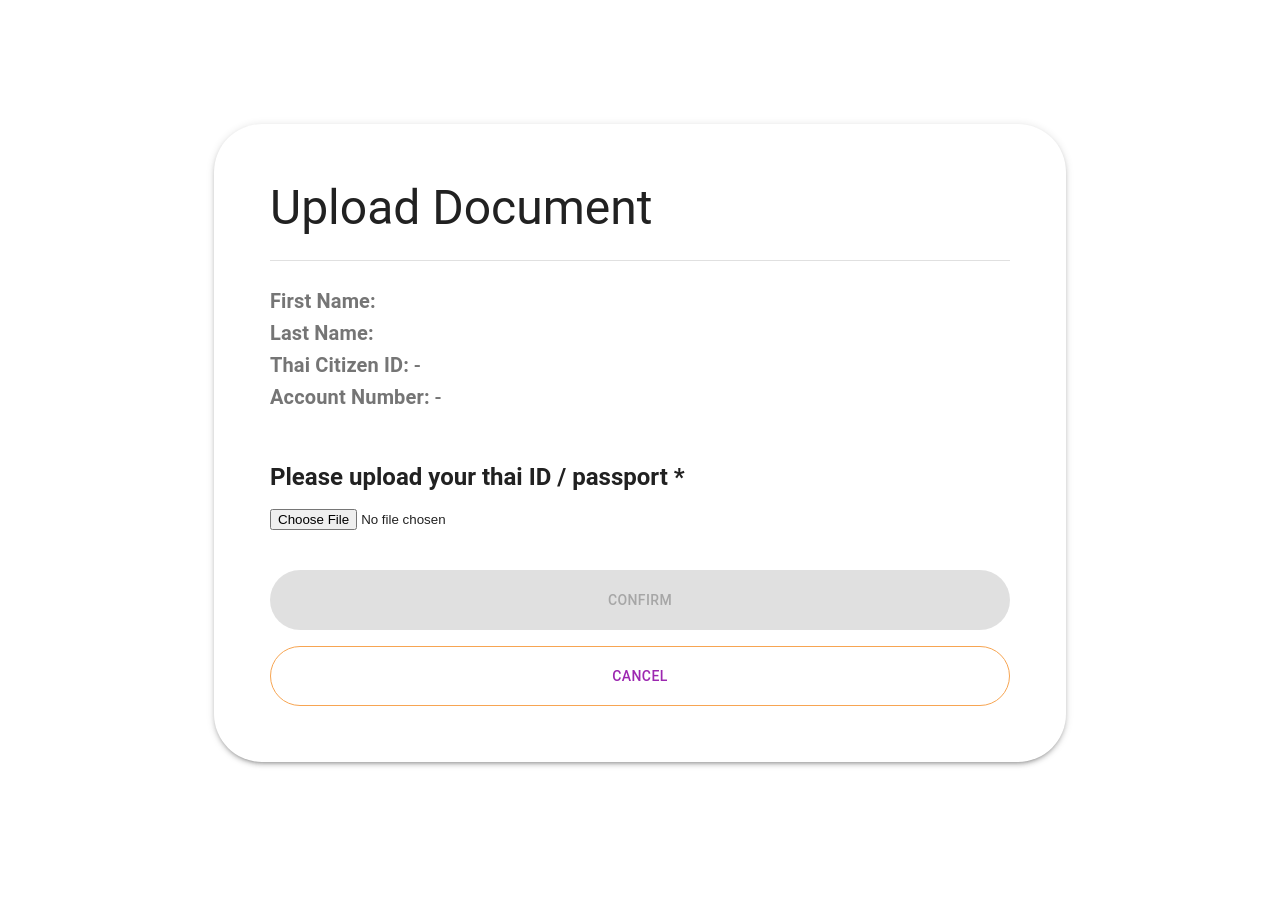
UploadDocuments Page › opens cancel dialog when Cancel is clicked
Step 1. Click the button "Cancel" → (640, 676), box [270, 646, 1010, 706]
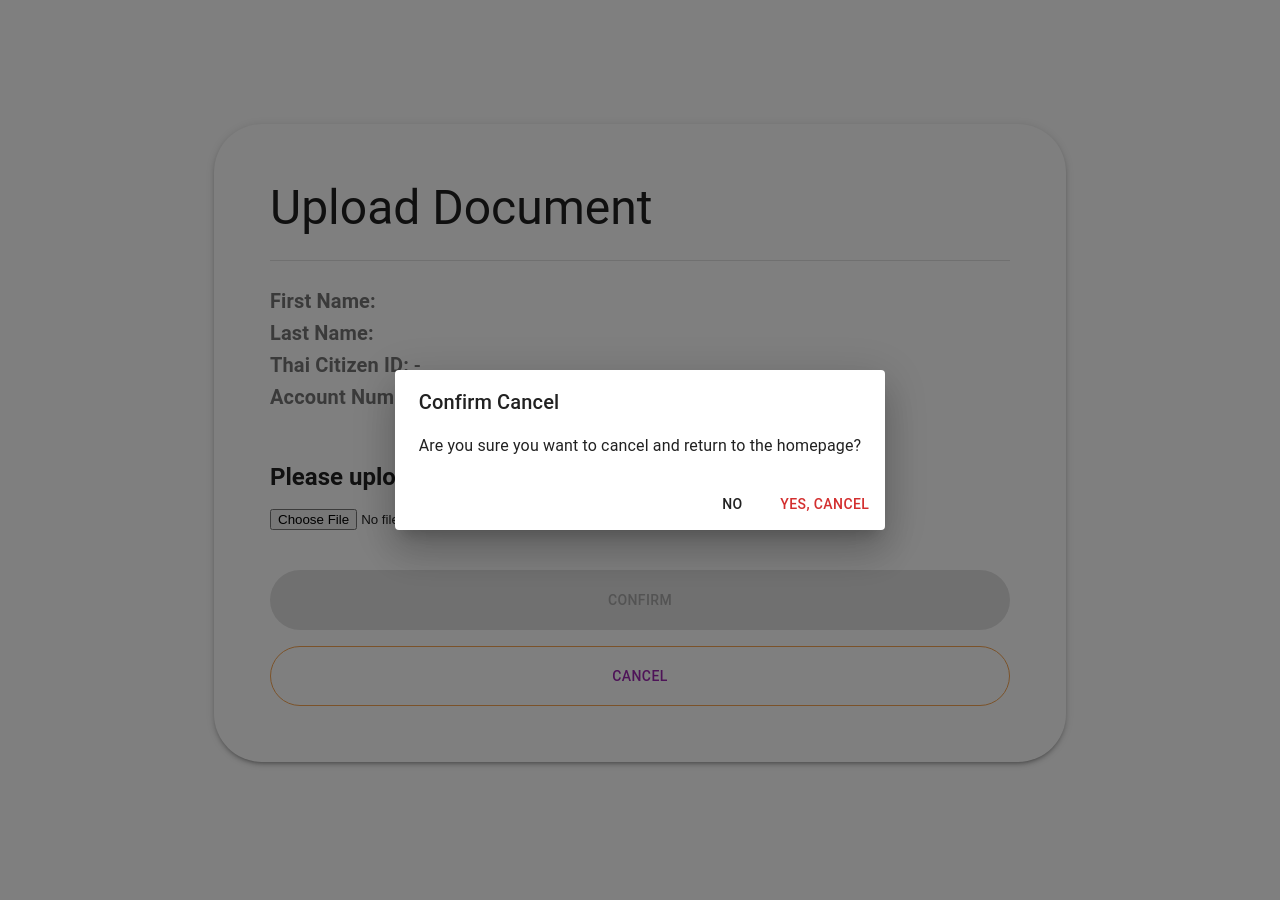
Expected: the heading "Confirm Cancel" is shown, [419, 390, 559, 414]
